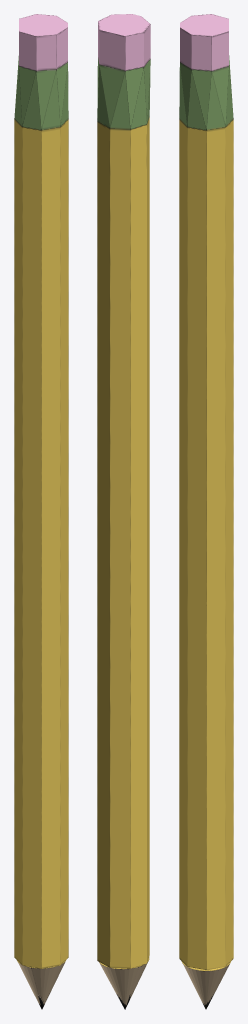
File: pencil.fbx
3 renders of one model, left to right at view 1: azimuth 90°, elevation 25°; view 2: azimuth 150°, elevation 25°; view 3: azimuth 270°, elevation 25°, orthographic.
Visible parts, largest first — view 1: Cylinder; view 2: Cylinder; view 3: Cylinder.
Part boxes in pixels (<box>): Cylinder: <box>14,14,68,1009</box>; Cylinder: <box>97,14,150,1009</box>; Cylinder: <box>179,14,233,1009</box>.
Bounding box in the file's own units: 44.07 × 884 × 44.07.
